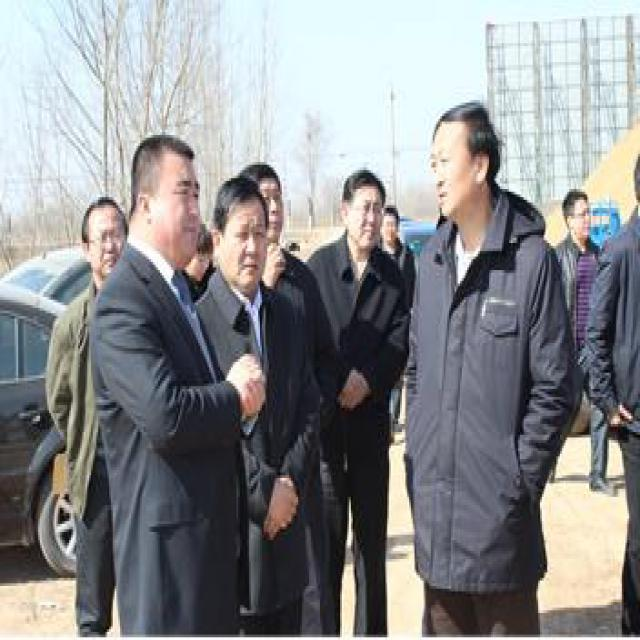head: (127, 117, 210, 263), (425, 90, 503, 223), (207, 163, 269, 298), (337, 158, 385, 258), (78, 193, 129, 276), (248, 152, 285, 247), (555, 185, 592, 247), (383, 198, 405, 255)
person: (387, 91, 573, 626), (87, 127, 243, 635), (196, 167, 333, 626), (307, 157, 416, 624), (542, 179, 615, 453)
